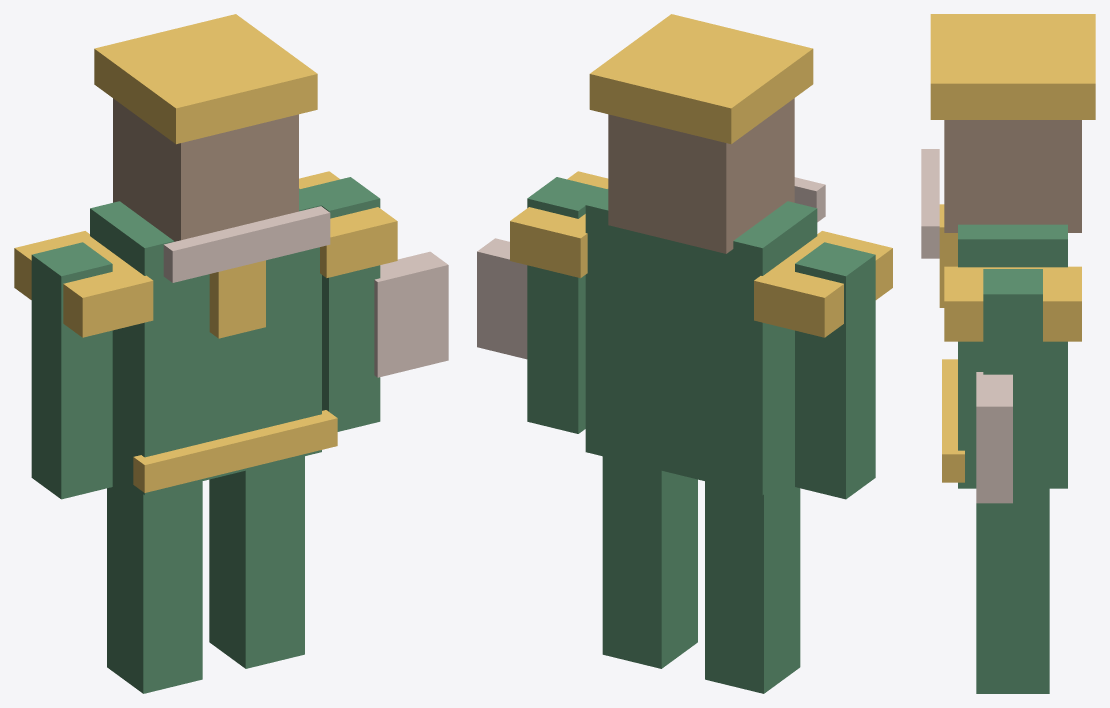
File: 05_isolde_gearmantle_smith_of.glb
3 views of the same model, side by side, from view 1: azimuth 30°, elevation 25°; view 2: azimuth 150°, elevation 25°; view 3: azimuth 270°, elevation 25° (orthographic).
Visible parts, largest first — view 1: Isolde Gearmantle, Smith of; view 2: Isolde Gearmantle, Smith of; view 3: Isolde Gearmantle, Smith of.
Part boxes in pixels (x1=…): Isolde Gearmantle, Smith of: x1=14, y1=14, x2=448, y2=693; Isolde Gearmantle, Smith of: x1=477, y1=14, x2=892, y2=693; Isolde Gearmantle, Smith of: x1=921, y1=14, x2=1095, y2=693.
Size of the model in its own units: 1.01 by 1.5 by 0.3925.
